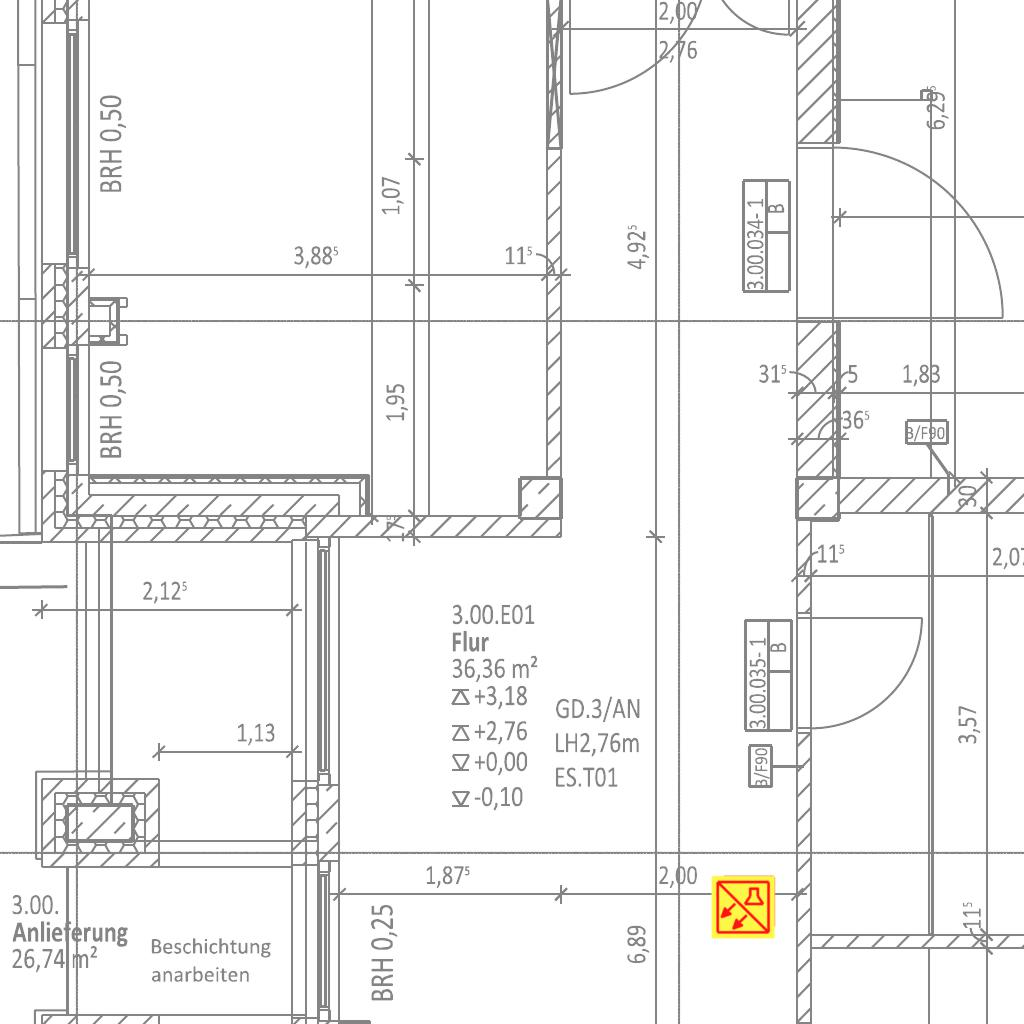OKW_Multisensormelder_(Kombination_optischer_Rauch-Kahlenmonoxid_Waerme-Melder): (710, 874, 776, 940)
